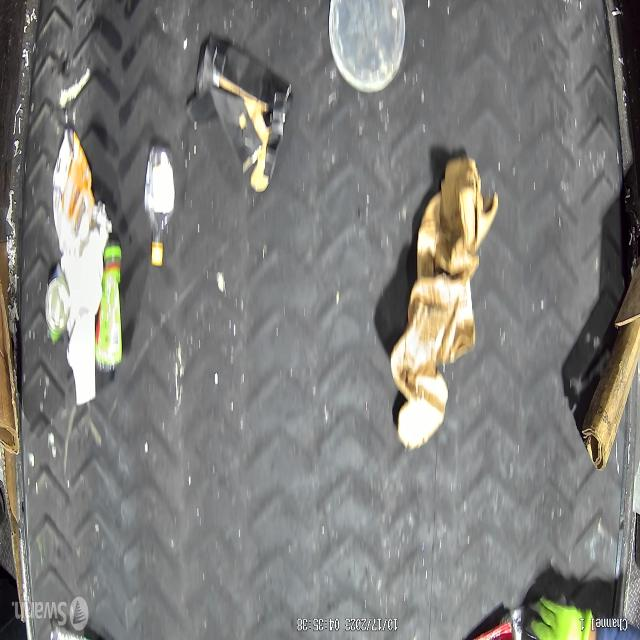plastic_bottle: (143, 144, 176, 268), (44, 261, 71, 336)
